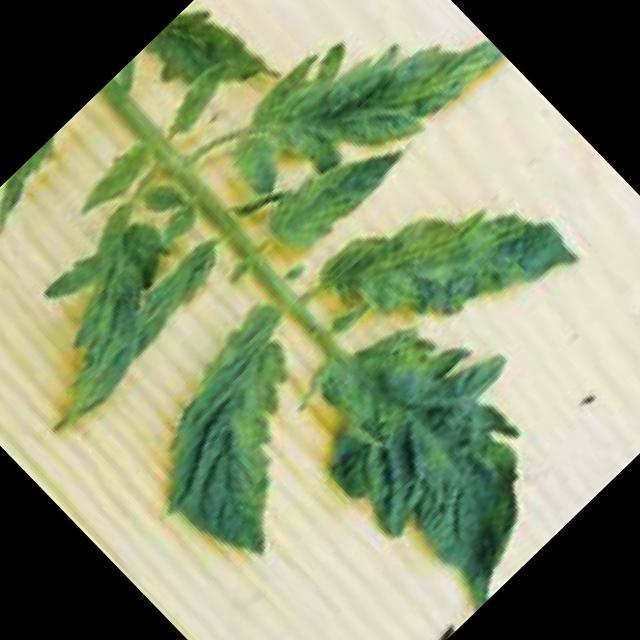Tomato mosaic virus leaf: (262, 269, 620, 628), (298, 128, 583, 412), (112, 296, 392, 575), (208, 0, 498, 253), (0, 181, 228, 442), (250, 120, 408, 276)
